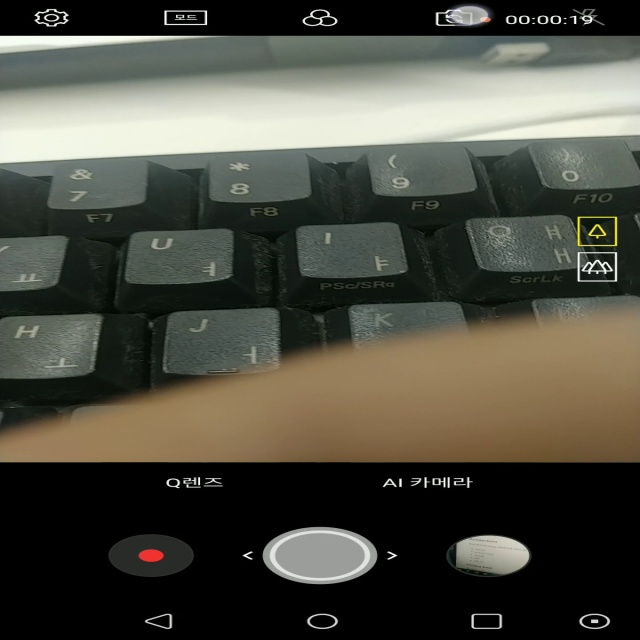Cursor: (448, 5, 492, 28)
